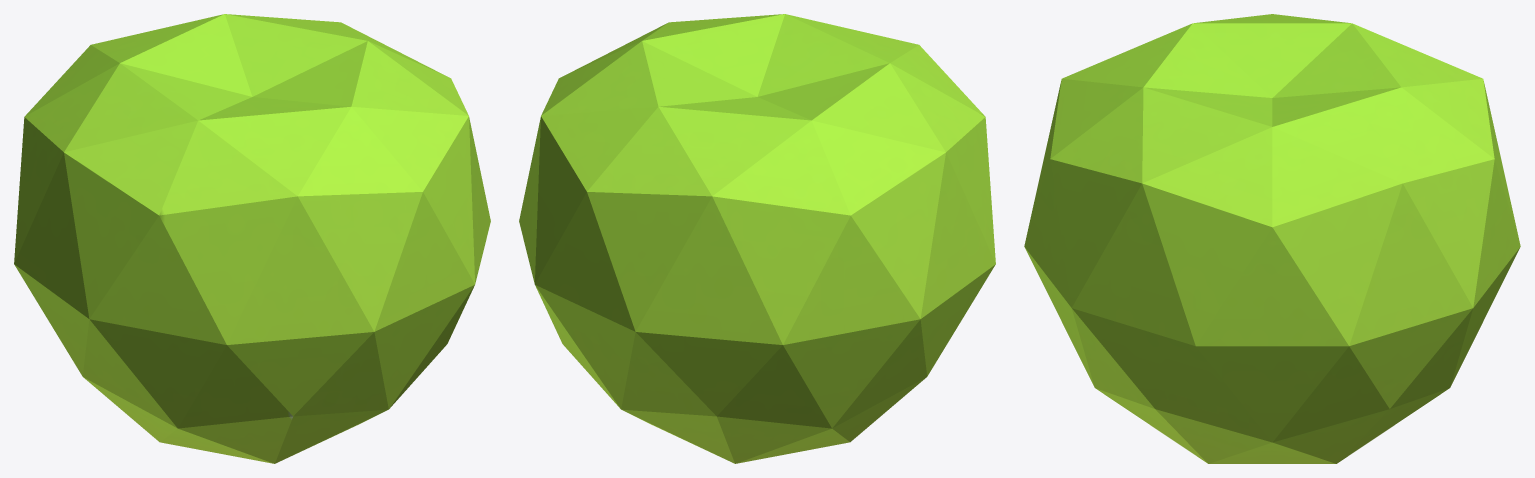
The model's file is apple2.glb.
3 renders of one model, left to right at view 1: azimuth 30°, elevation 25°; view 2: azimuth 150°, elevation 25°; view 3: azimuth 270°, elevation 25°, orthographic.
Parts seen in each view (by area): view 1: Apple2; view 2: Apple2; view 3: Apple2.
Part boxes in pixels (bbox=[...]): Apple2: bbox=[14, 14, 490, 463]; Apple2: bbox=[519, 14, 995, 463]; Apple2: bbox=[1024, 14, 1520, 463].
Size of the model in its own units: 0.2598 by 0.2168 by 0.2732.
Materials: 1 (1 with a texture image).
